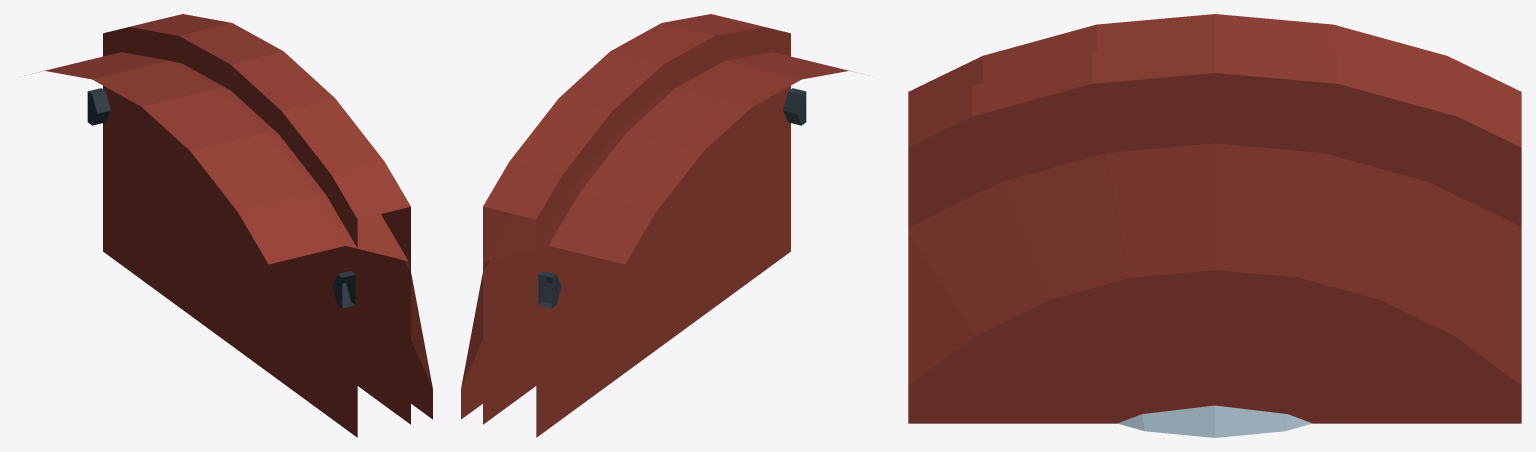
The model's file is cell_66.obj.
The picture shows the model from 3 angles, left to right: view 1: azimuth 30°, elevation 25°; view 2: azimuth 150°, elevation 25°; view 3: azimuth 270°, elevation 25°; orthographic projection. The views are drawn at different scales.
Size of the model in its own units: 0.4283 by 0.6076 by 1.
